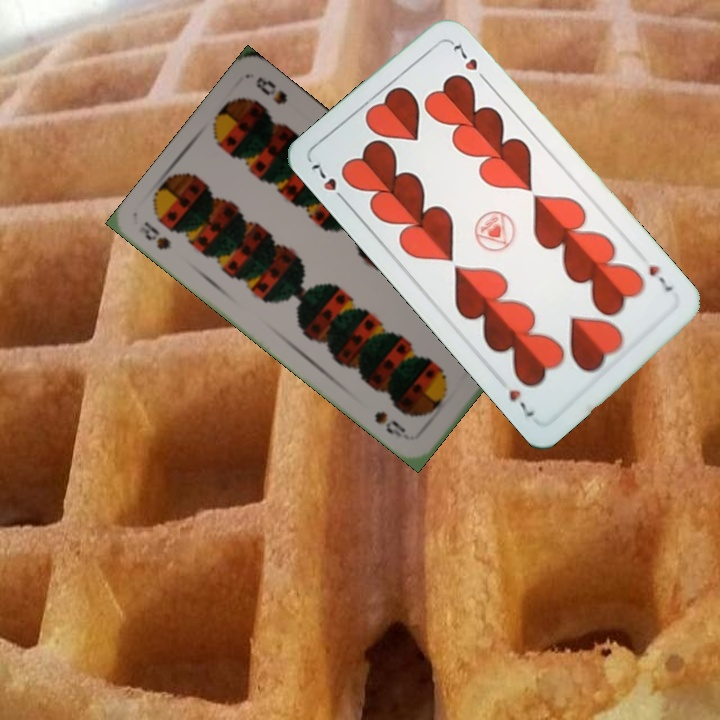H7: (307, 159, 351, 207), (644, 259, 676, 295)
S8: (134, 217, 174, 253)
